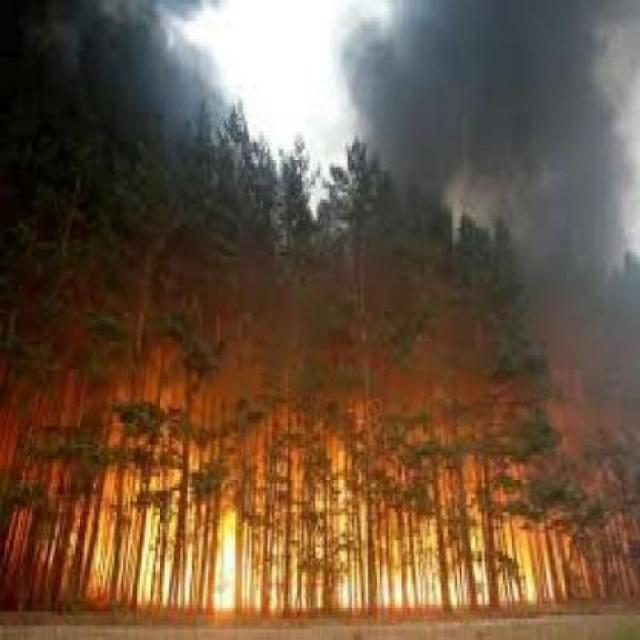Fire: (0, 450, 640, 640)
Smoke: (0, 0, 640, 337)
